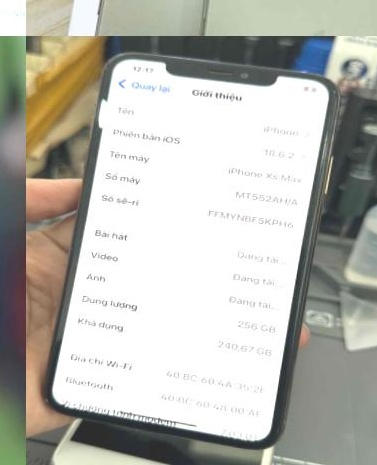scratch: (33, 389, 58, 414)
